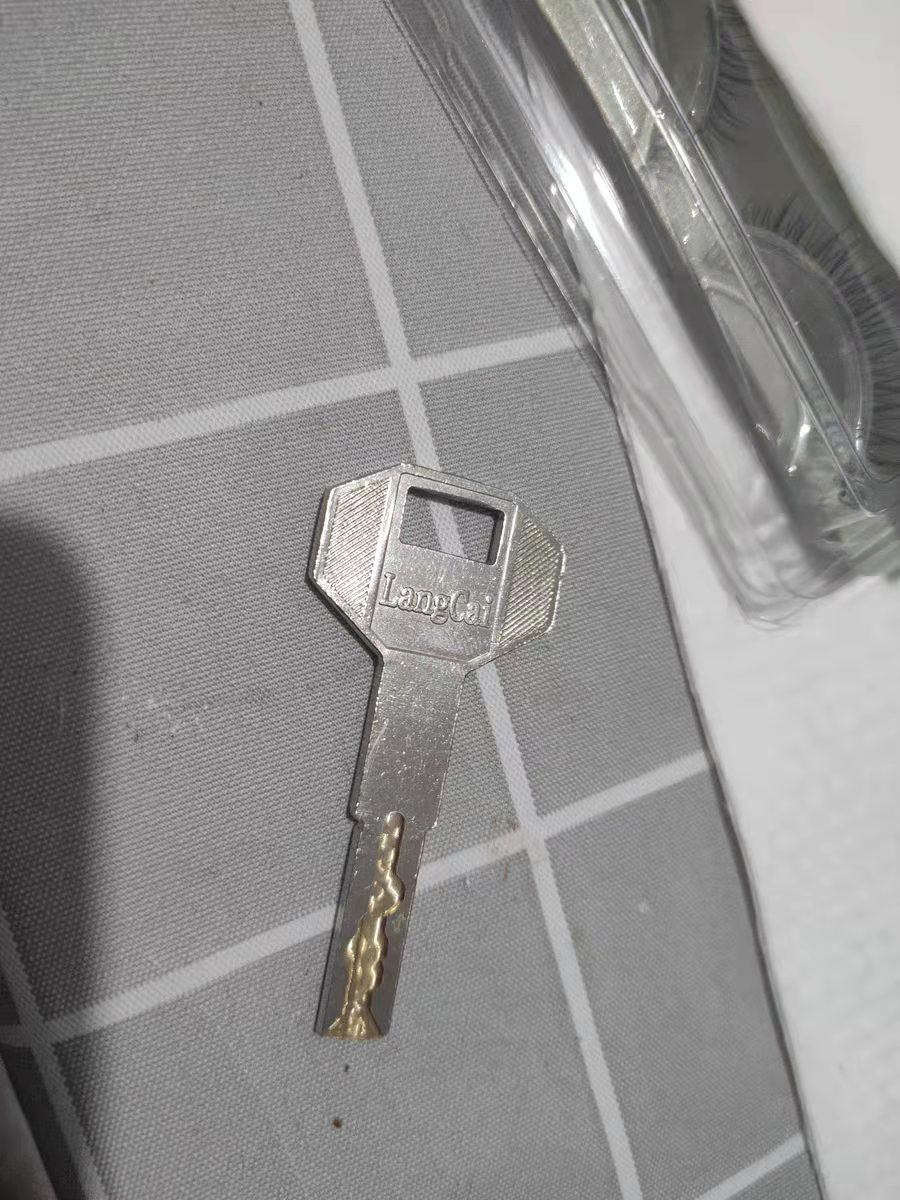key: (290, 456, 574, 1036)
